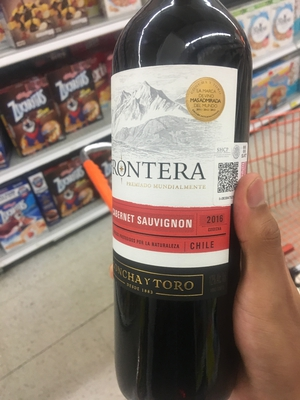frontera cabernet sauvignon: (105, 5, 249, 397)
